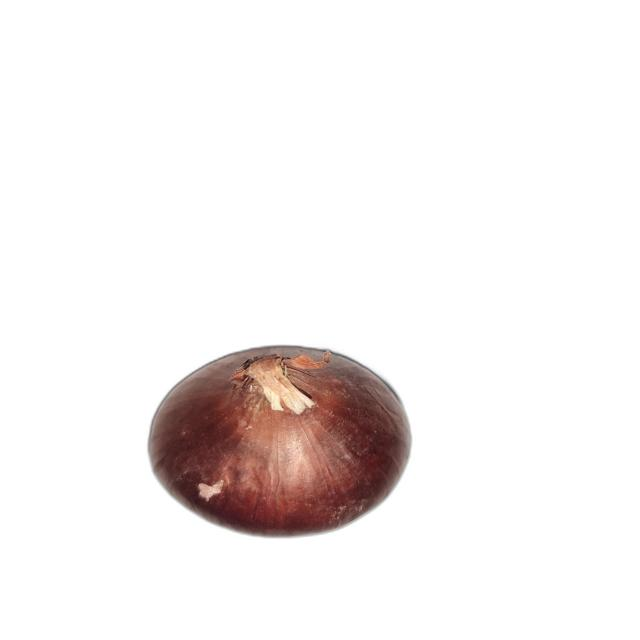onion: (148, 346, 412, 538)
